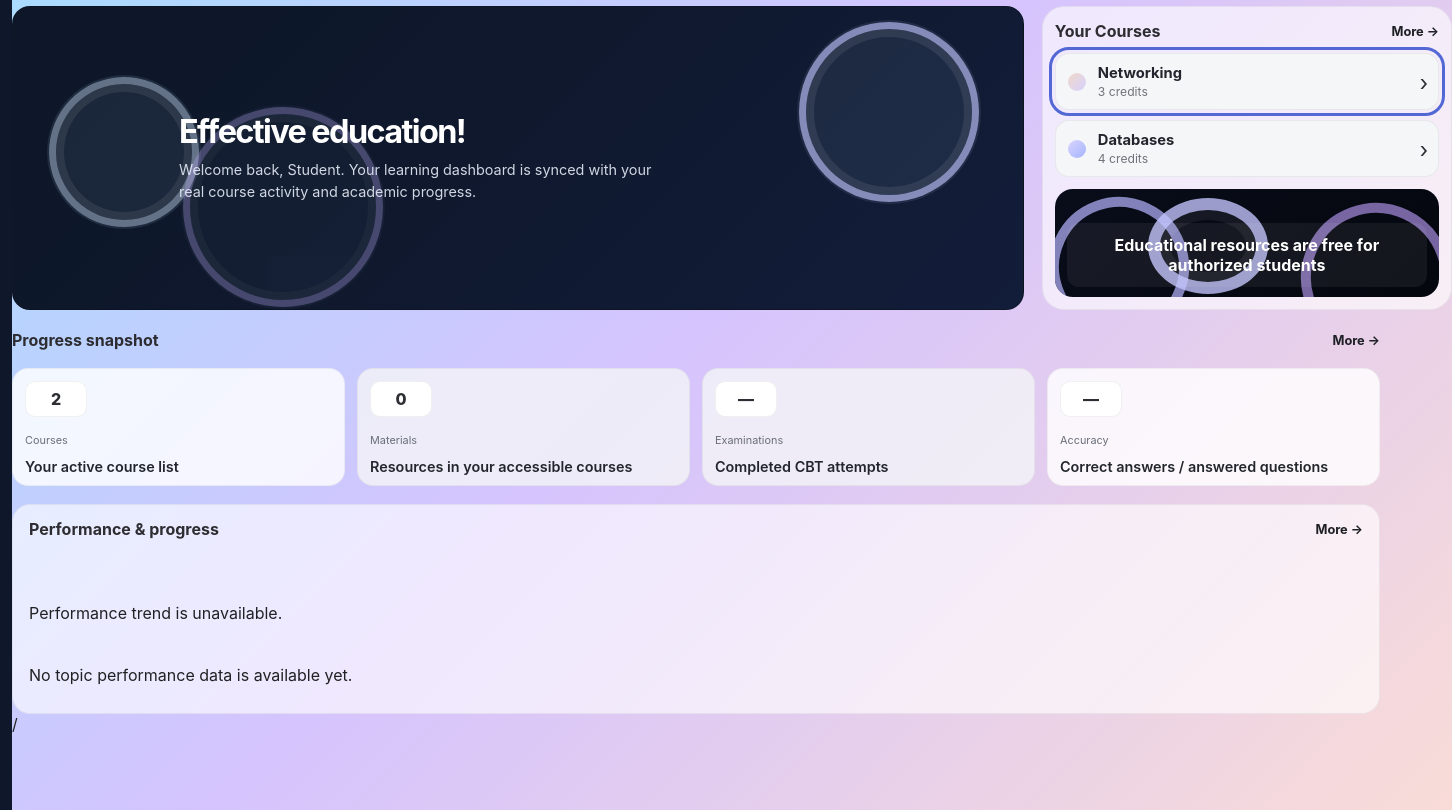
Dashboard course navigation › keeps course cards keyboard-focusable and the course-list action separate
Click the link "More →" in the row of "Your Courses".
click(1415, 31)  # box [1392,24,1439,38]
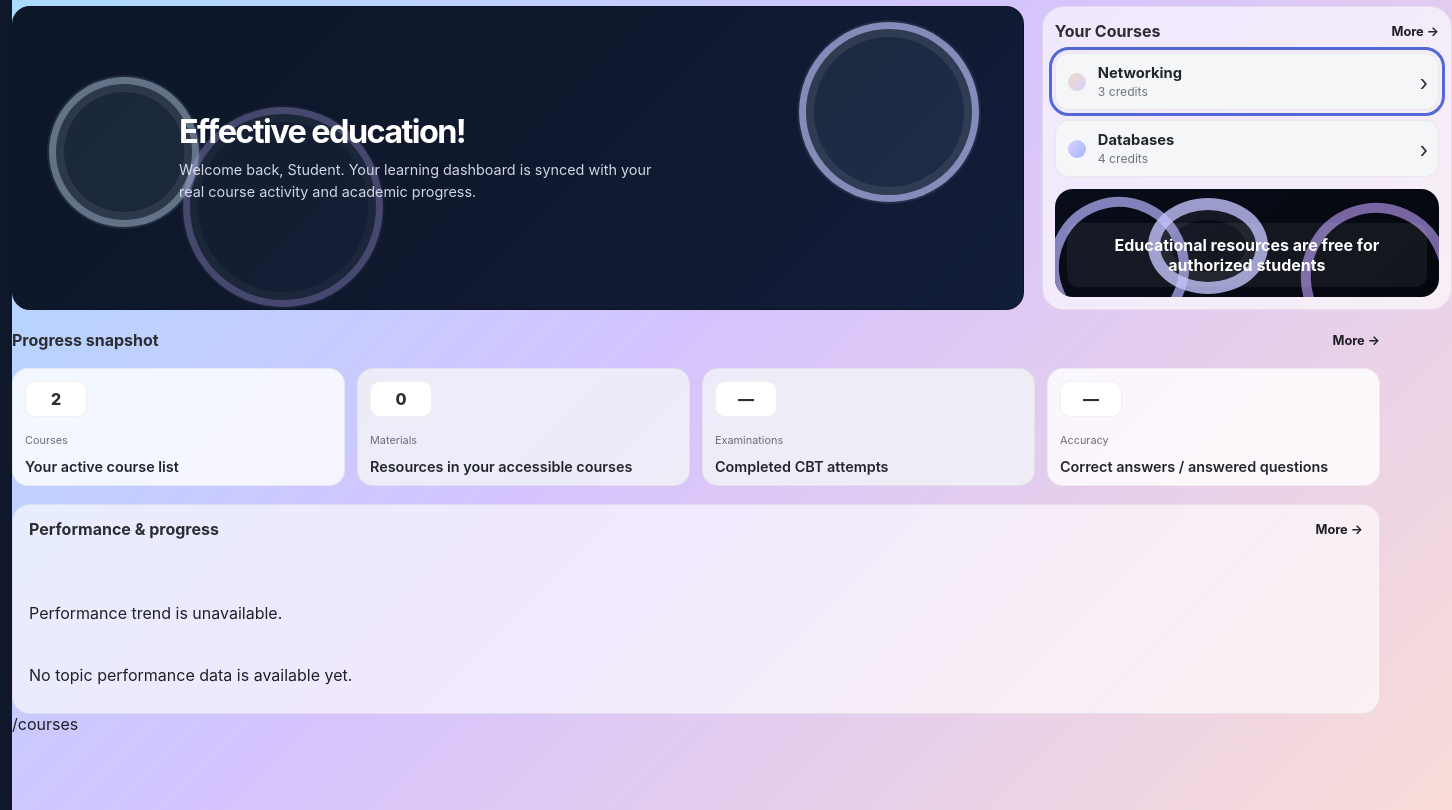
Now the text with test id "current-path" reads "/courses", box [12,714,78,734]
